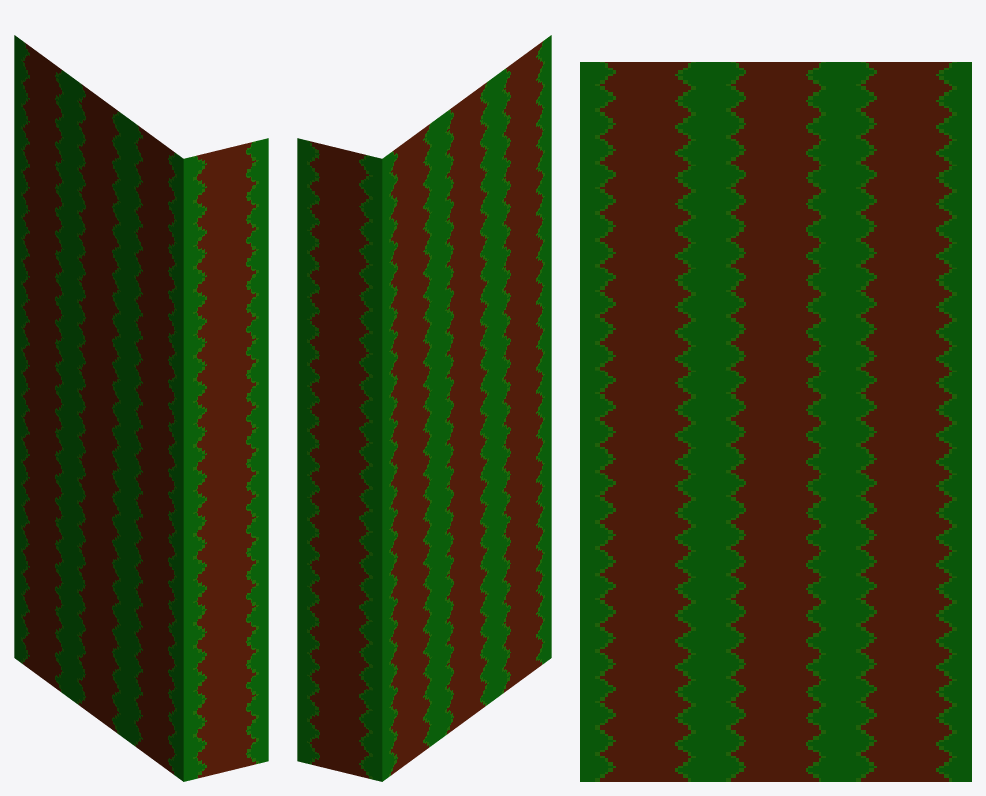
Rendered from Luna5NoiteTrava9Rev2.glb.
3 views of the same model, side by side, from view 1: azimuth 30°, elevation 25°; view 2: azimuth 150°, elevation 25°; view 3: azimuth 270°, elevation 25° (orthographic). The views are drawn at different scales.
Parts seen in each view (by area): view 1: Setor_4; view 2: Setor_4; view 3: Setor_4.
Boxes of the visible parts, x1,y1,x2,y2 form: Setor_4: [14, 35, 268, 781]; Setor_4: [297, 35, 551, 781]; Setor_4: [580, 62, 971, 781].
Size of the model in its own units: 1.27 by 8.93 by 4.4.
Materials: 1 (1 with a texture image).
